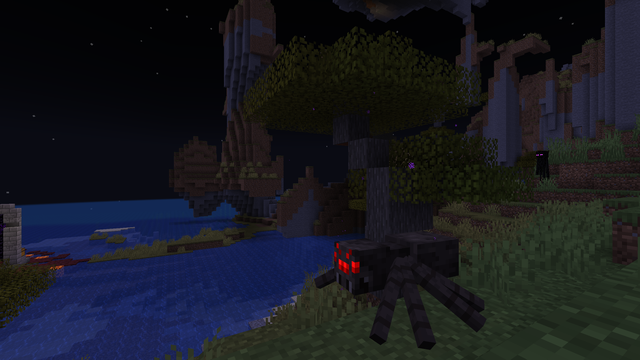araignees: (317, 222, 472, 349)
endermens: (535, 149, 548, 187)
